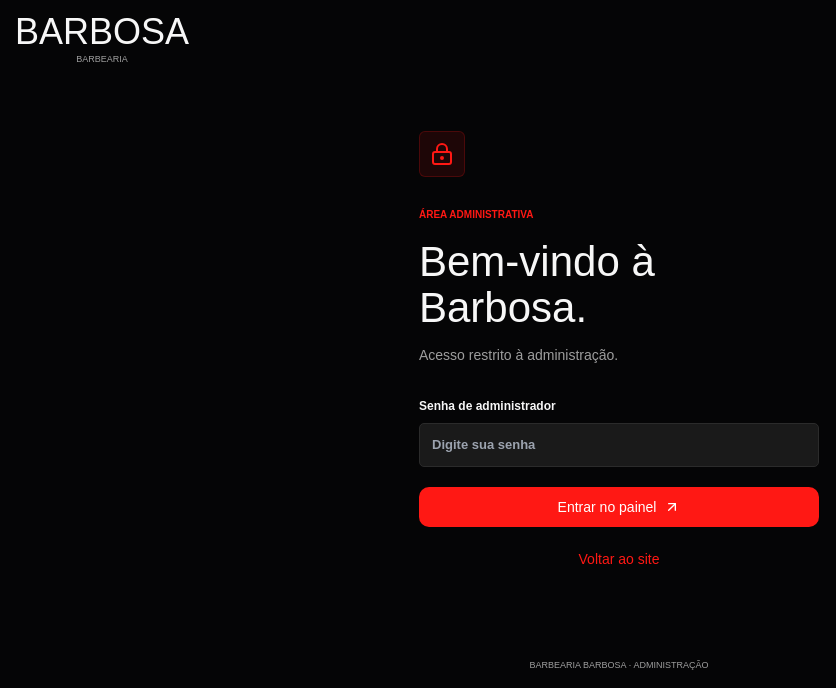
Test: Protected admin loading › never opens the panel when the server rejects the password
Type "example-admin-secret" into the password field labelled "Senha de administrador". click: (619, 445)
box: [419, 423, 819, 467]
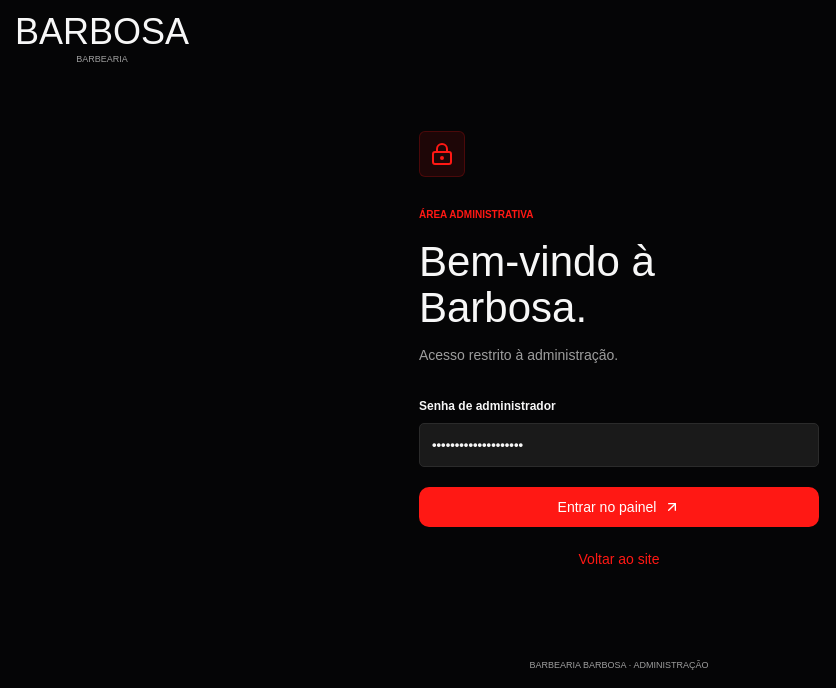
Click the button "Entrar no painel". click: (619, 507)
box: [419, 487, 819, 527]
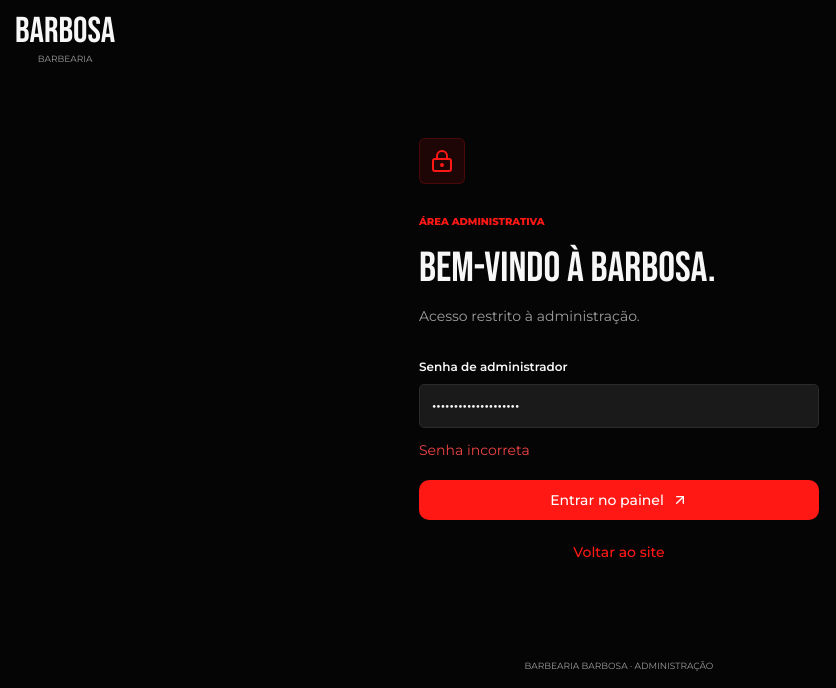
Expected: the message "Senha incorreta" is shown, [419, 441, 530, 459]
